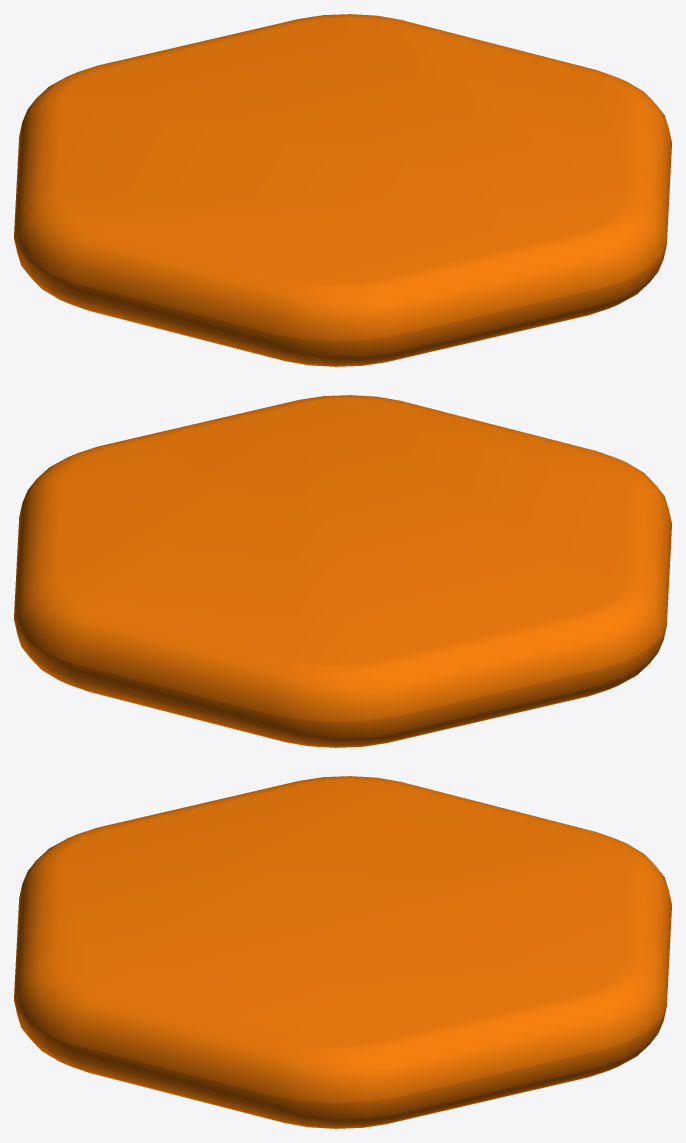
The model's file is New Thick Hexa WIth UV.fbx.
The picture shows the model from 3 angles, top to bottom: view 1: azimuth 30°, elevation 25°; view 2: azimuth 150°, elevation 25°; view 3: azimuth 270°, elevation 25°; orthographic projection.
Visible parts, largest first — view 1: Black.006; view 2: Black.006; view 3: Black.006.
Boxes of the visible parts, x1,y1,x2,y2 form: Black.006: (14, 14, 671, 366); Black.006: (14, 395, 671, 747); Black.006: (14, 776, 671, 1128).
Size of the model in its own units: 46.95 by 5.82 by 43.38.
